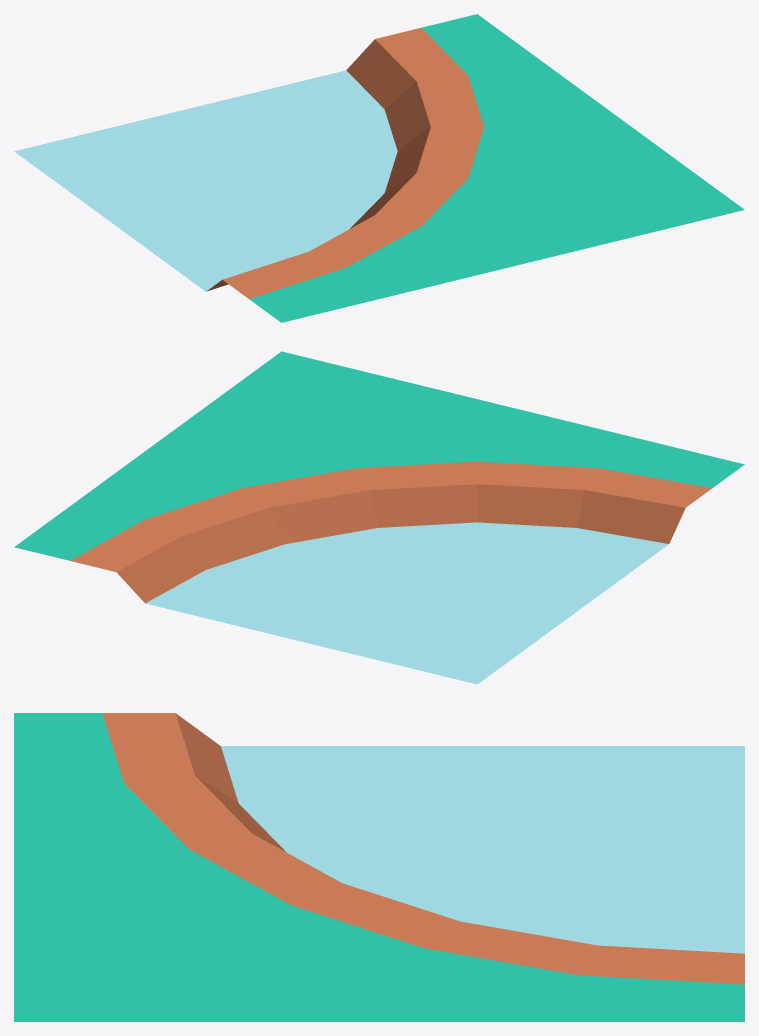
Rendered from ground_riverCorner.fbx.
The picture shows the model from 3 angles, top to bottom: view 1: azimuth 30°, elevation 25°; view 2: azimuth 150°, elevation 25°; view 3: azimuth 270°, elevation 25°; orthographic projection. The views are drawn at different scales.
Visible parts, largest first — view 1: ground_riverCorner; view 2: ground_riverCorner; view 3: ground_riverCorner.
Boxes of the visible parts, x1,y1,x2,y2 form: ground_riverCorner: (14,14,744,322); ground_riverCorner: (14,351,744,684); ground_riverCorner: (14,713,744,1021).
Bounding box in the file's own units: 10 × 0.5 × 10.
